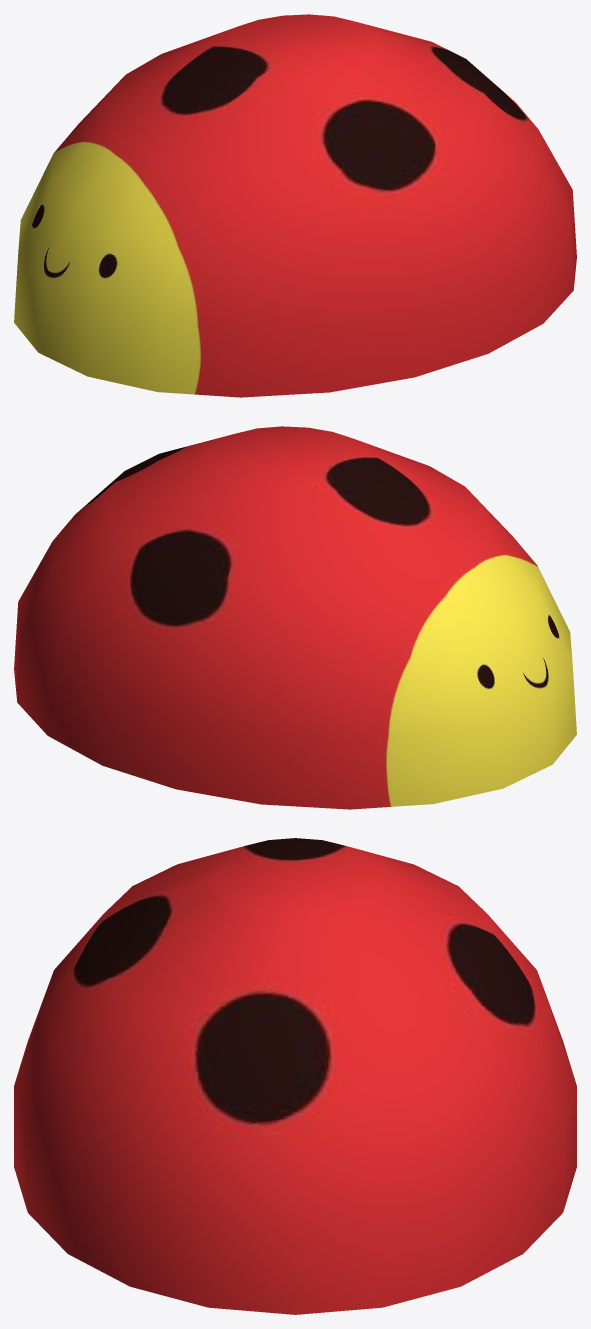
The model's file is EnemyNatureBugLow.fbx.
3 views of the same model, one above another, from view 1: azimuth 30°, elevation 25°; view 2: azimuth 150°, elevation 25°; view 3: azimuth 270°, elevation 25° (orthographic). The views are drawn at different scales.
Parts seen in each view (by area): view 1: NaturalEnemyLadyBug1; view 2: NaturalEnemyLadyBug1; view 3: NaturalEnemyLadyBug1.
Boxes of the visible parts, x1,y1,x2,y2 form: NaturalEnemyLadyBug1: (14,14,576,397); NaturalEnemyLadyBug1: (14,426,576,809); NaturalEnemyLadyBug1: (14,838,576,1314).
Size of the model in its own units: 1.44 by 0.6484 by 1.16.
